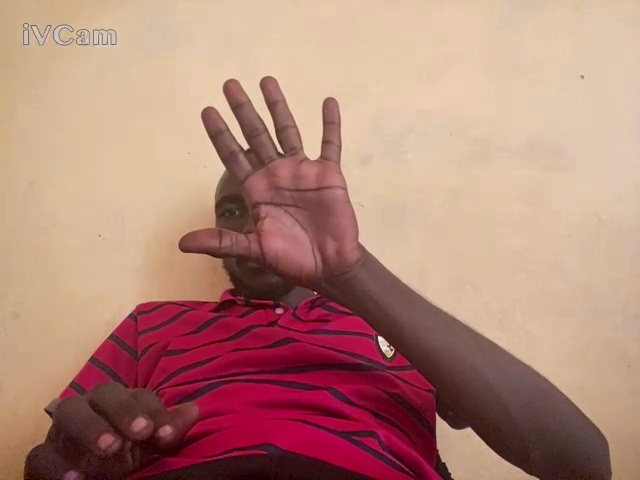Hello: (172, 66, 364, 293)
